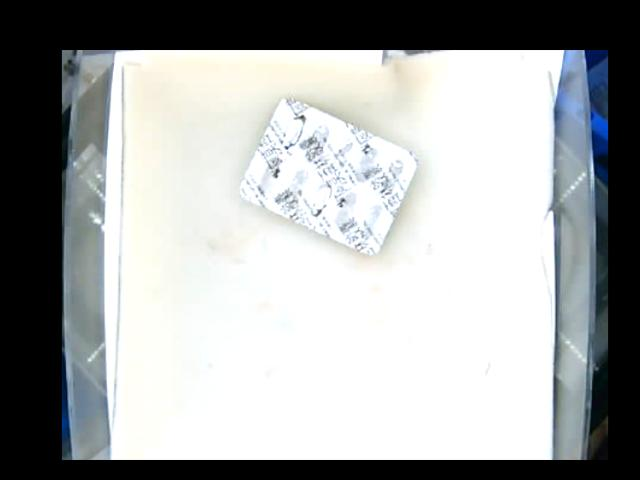Medicine: (237, 96, 416, 254)
